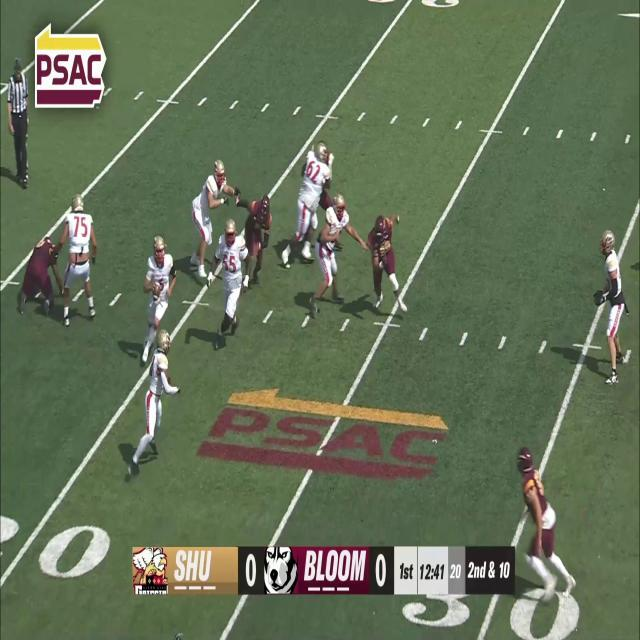football: (152, 280, 161, 301)
